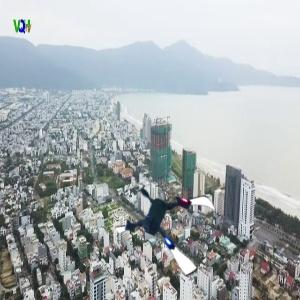drone: (118, 172, 225, 279)
